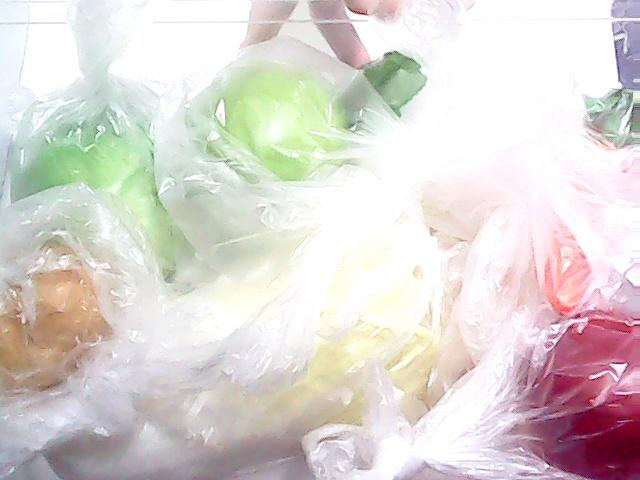apple: (507, 300, 640, 479)
cabbage: (14, 98, 204, 290)
carrot: (537, 84, 639, 316)
napa cabbage: (51, 122, 446, 480)
potato: (0, 238, 122, 396)
radish: (332, 44, 568, 172)
